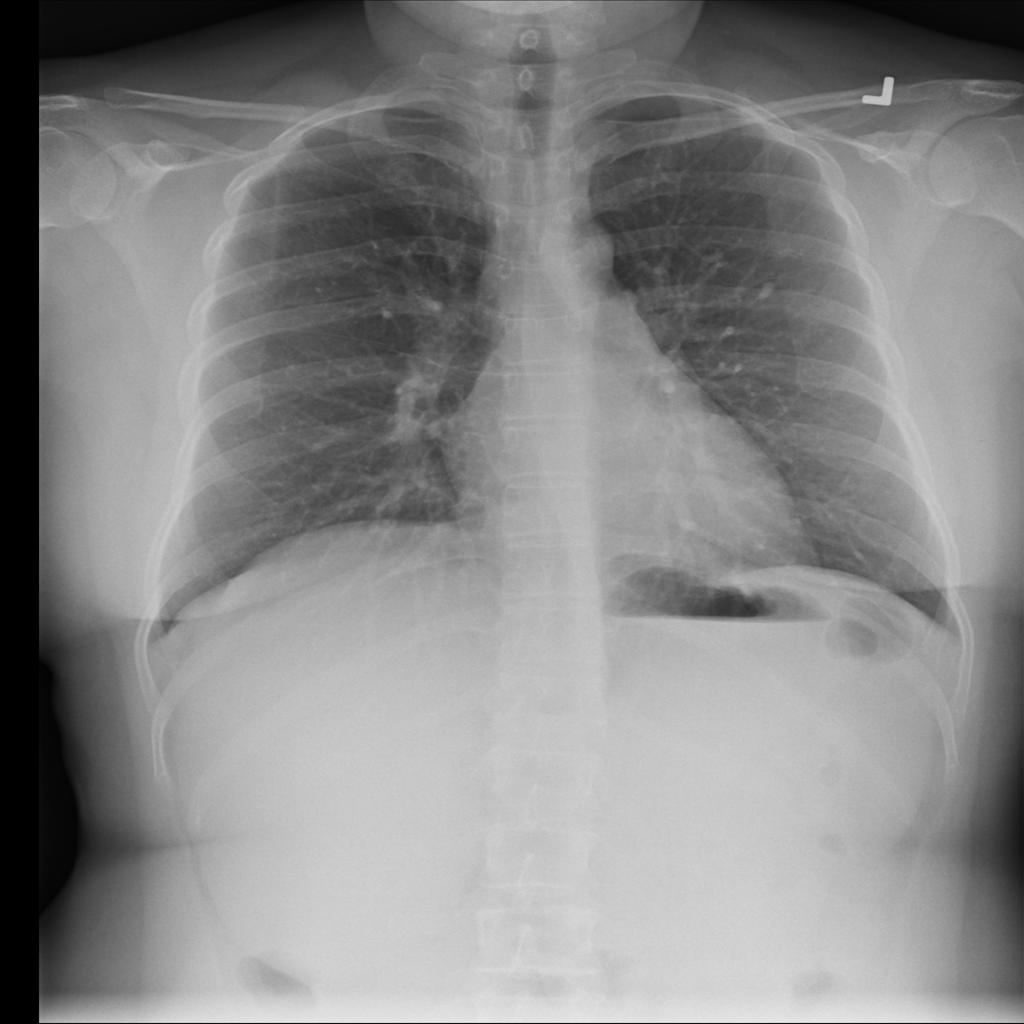nodule: (750, 271, 788, 309)
